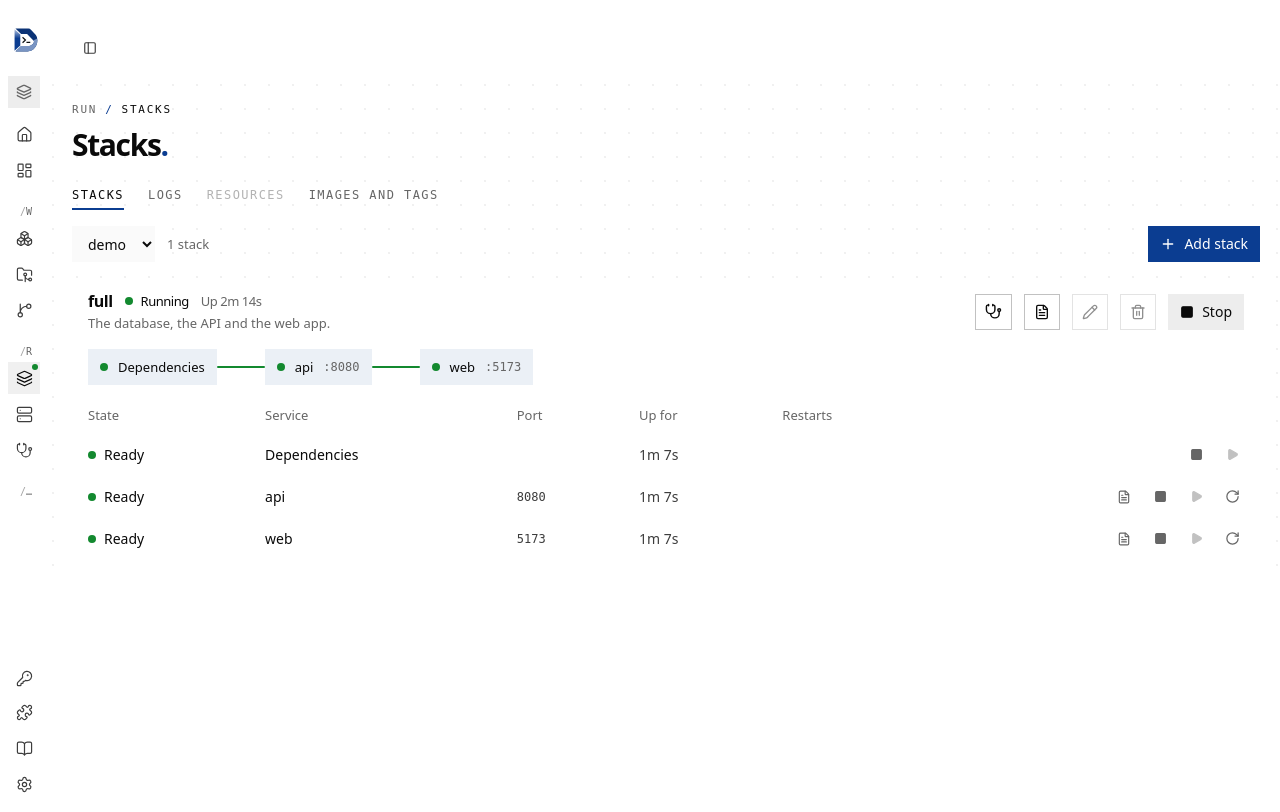
Test: stacks page › stops a running stack
Expected: the text "Up 2m 14s" is shown, x1=201 y1=290 x2=262 y2=310
Expected: the 1st text "1m 7s" is shown, x1=623 y1=434 x2=766 y2=476
Click the button "Stop": (1206, 312) x1=1168 y1=294 x2=1244 y2=330
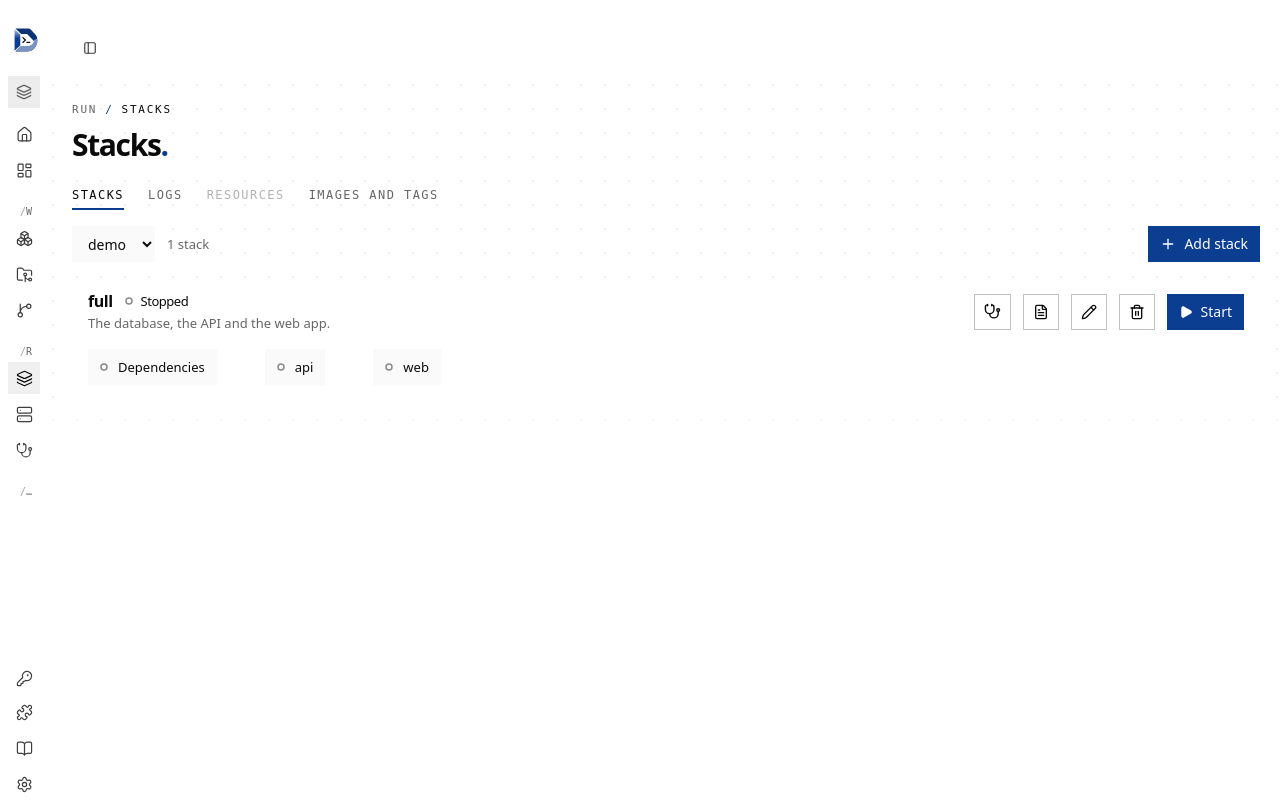
Now the button "Start" is shown, box x1=1167 y1=294 x2=1244 y2=330
Now the table is gone
